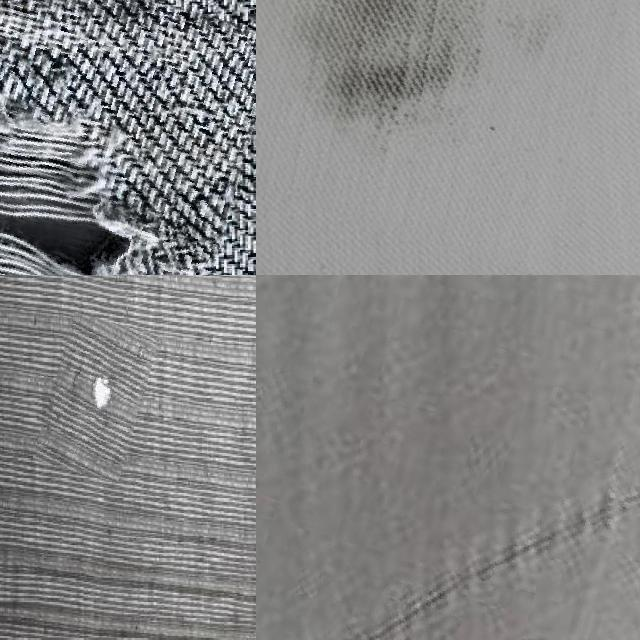Thread_other: (256, 0, 631, 252)
other: (42, 317, 150, 479)
stains: (256, 275, 640, 640)
